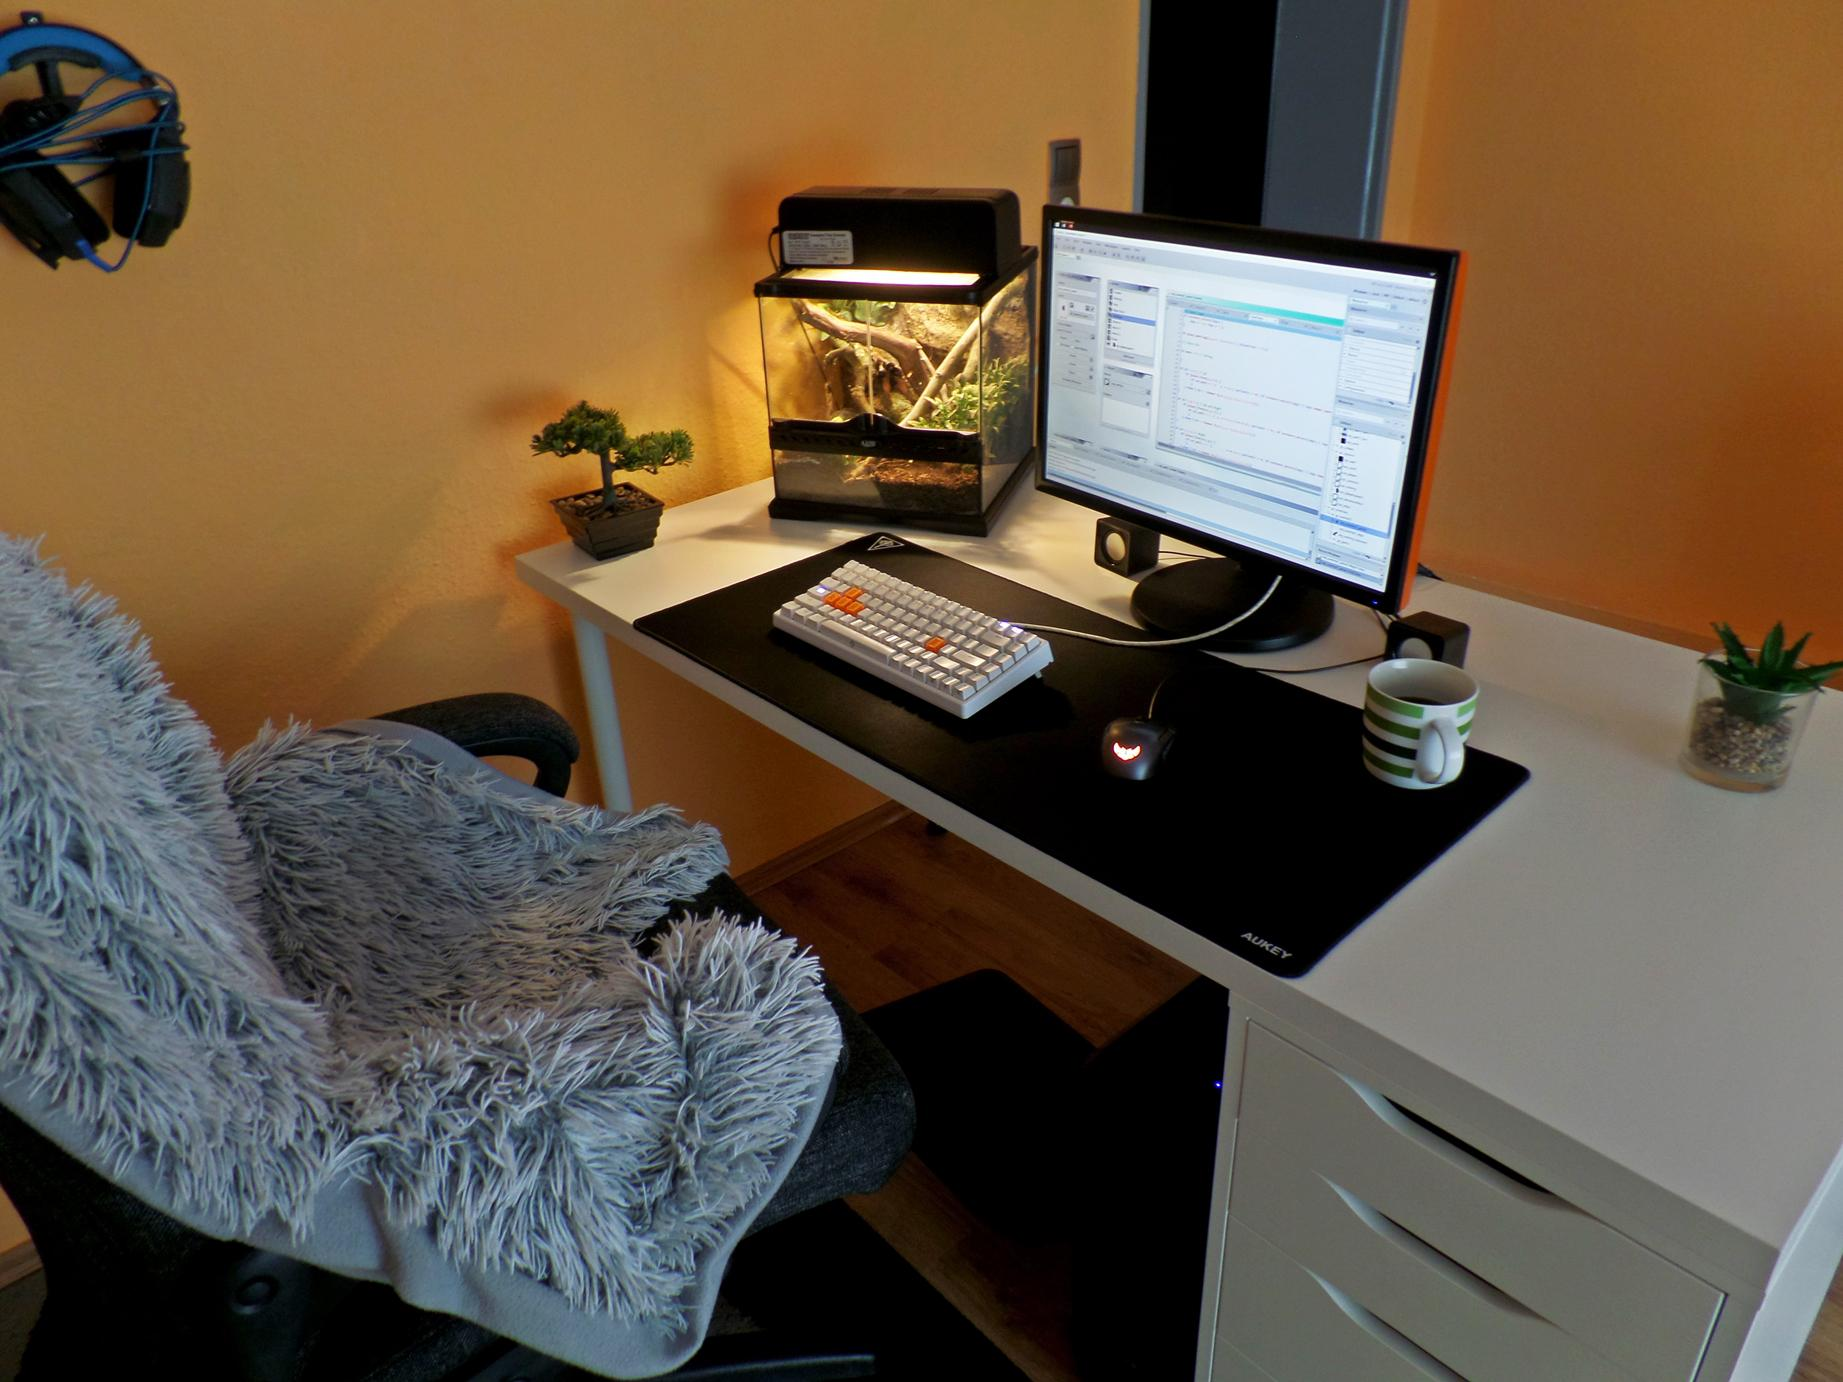Chair (Generic): (1, 557, 877, 1346)
Decoration (Generic): (752, 197, 1051, 510)
Decoration (Plant): (1680, 617, 1824, 803), (541, 391, 686, 559)
Desk (Generic): (565, 431, 1802, 1071)
External Speakers (Generic): (1387, 614, 1473, 678), (1083, 526, 1168, 566)
Headphones (with Microphone): (1, 60, 222, 293)
Keyboard (Gaming): (787, 541, 1072, 703)
Monitor (Landscape): (1027, 197, 1434, 588)
Mouse (Gaming): (1091, 692, 1190, 801)
Mousepad (Gaming): (633, 524, 1535, 973)
Mug: (1353, 656, 1469, 782)
Storage Drawer: (1199, 991, 1830, 1382)
